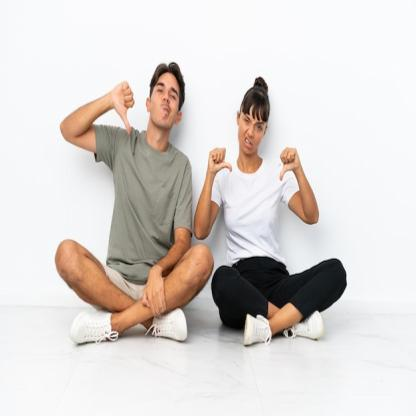thumb_down: (106, 75, 135, 138), (276, 141, 302, 183), (206, 143, 234, 177)
